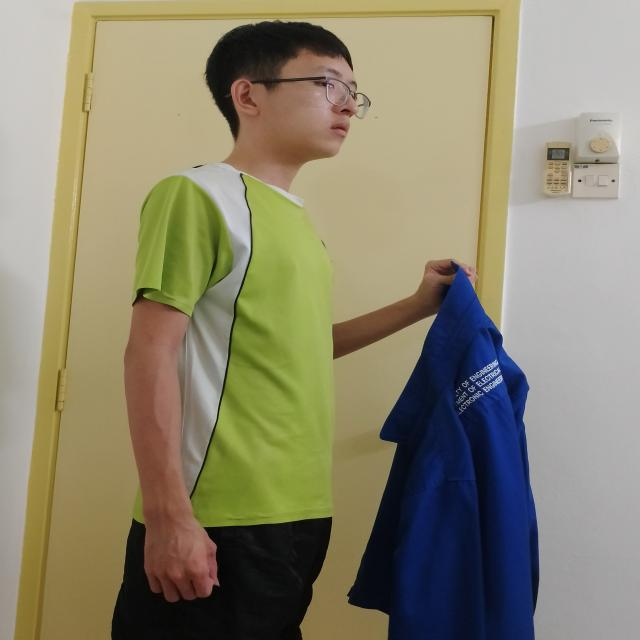person_without_labcoat: (111, 22, 539, 640)
